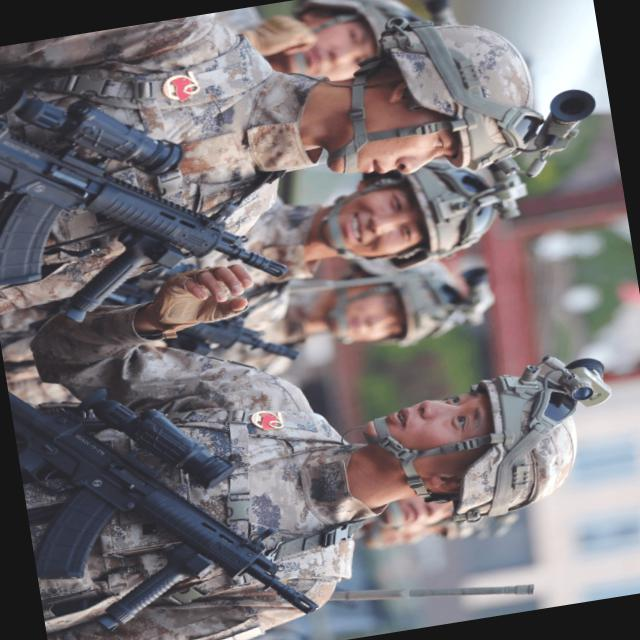long weapon: (21, 356, 347, 636), (0, 68, 328, 319)
